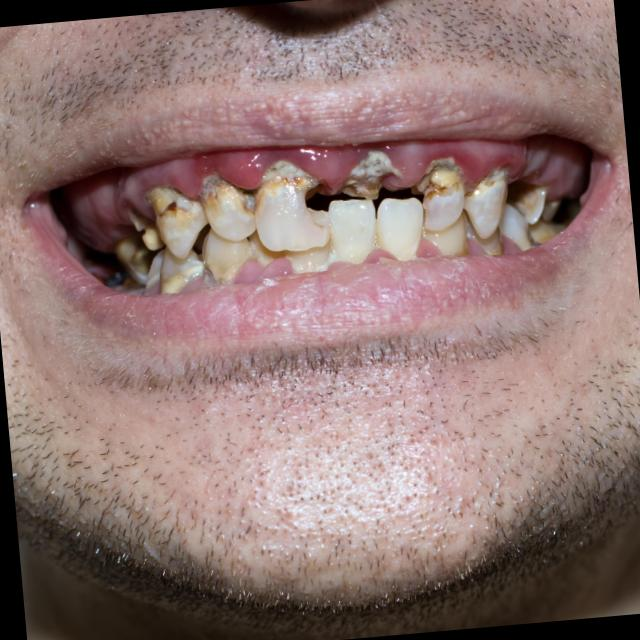Caries: (342, 150, 404, 199), (159, 201, 177, 217), (243, 191, 252, 194)
Cavity: (411, 157, 462, 217), (467, 165, 509, 198), (304, 182, 330, 231), (230, 184, 255, 214), (203, 261, 223, 286)
Tooth: (254, 159, 330, 251), (148, 187, 208, 258), (410, 155, 464, 231), (200, 175, 256, 241), (463, 165, 509, 239), (376, 197, 423, 261), (328, 199, 375, 263), (202, 227, 252, 287), (160, 245, 203, 294)
